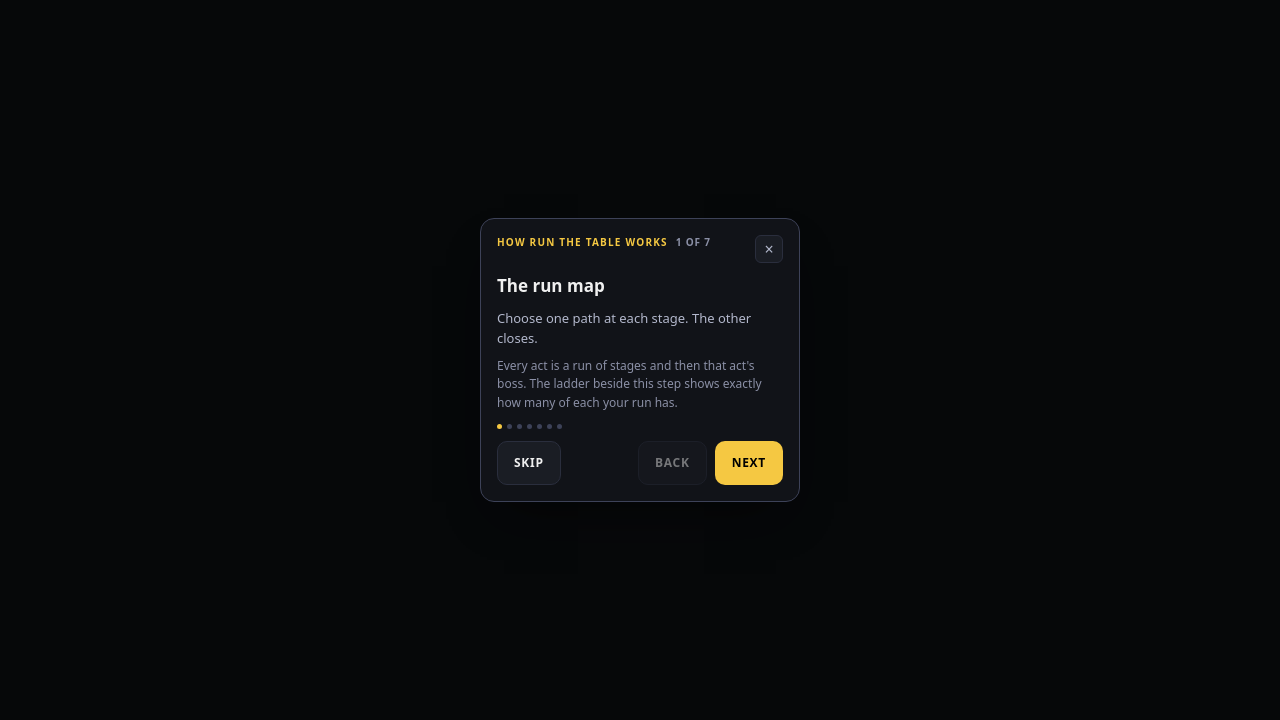
Test: navigation › steps forward and back, and Back is disabled on the first step
Expected: the dialog with test id "guided-tour-popover" is shown, [480,218,800,502]
Expected: the button with test id "guided-tour-back" is disabled, [638,441,707,485]
Click the button with test id "guided-tour-next" at (749, 463), box [715,441,783,485]
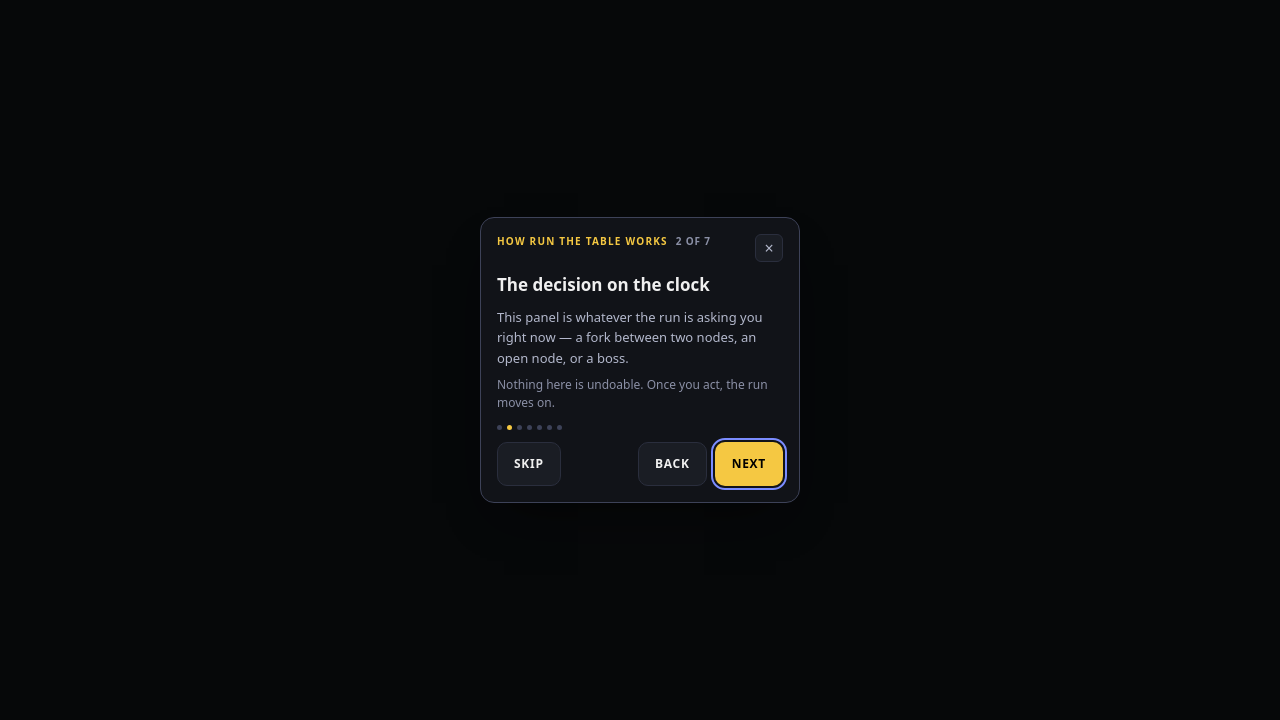
Expected: the text with test id "guided-tour-progress" reads "2 of 7", [676,234,711,249]
Expected: the heading with test id "guided-tour-title" reads "The decision on the clock", [497,273,710,296]
Click the button with test id "guided-tour-back" at (672, 464), box [638,442,707,486]
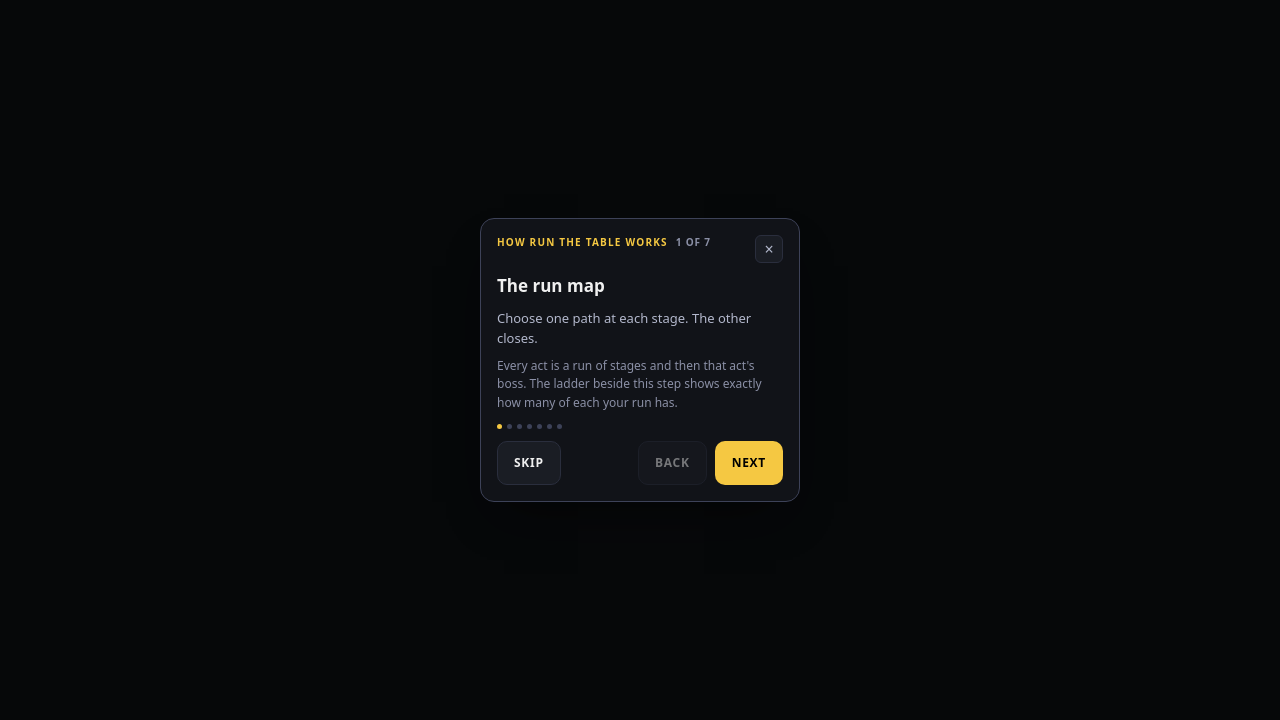
Expected: the text with test id "guided-tour-progress" reads "1 of 7", [676,235,711,250]
Expected: the button with test id "guided-tour-back" is disabled, [638,441,707,485]
